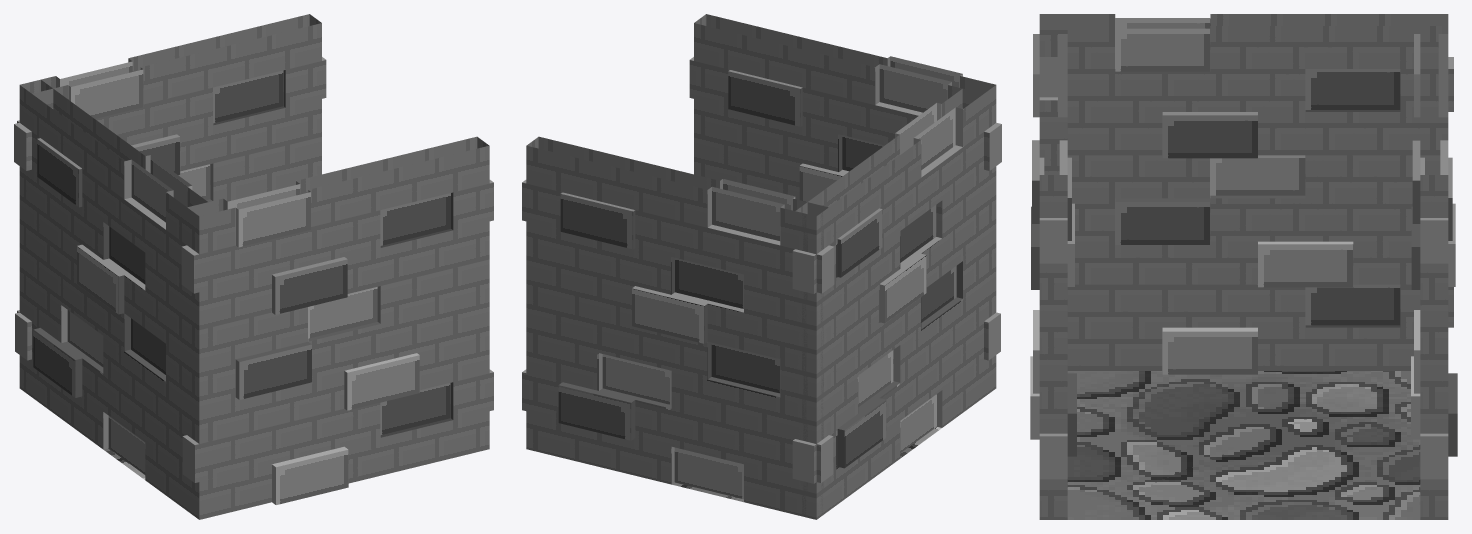
The picture shows the model from 3 angles, left to right: view 1: azimuth 30°, elevation 25°; view 2: azimuth 150°, elevation 25°; view 3: azimuth 270°, elevation 25°; orthographic projection. The views are drawn at different scales.
Parts seen in each view (by area): view 1: 3W; view 2: 3W; view 3: 3W.
Part boxes in pixels (x1=…): 3W: x1=14, y1=14, x2=493, y2=519; 3W: x1=522, y1=14, x2=1001, y2=519; 3W: x1=1030, y1=14, x2=1457, y2=519.
Size of the model in its own units: 2.08 by 2 by 2.24.
Materials: 2 (2 with a texture image).
